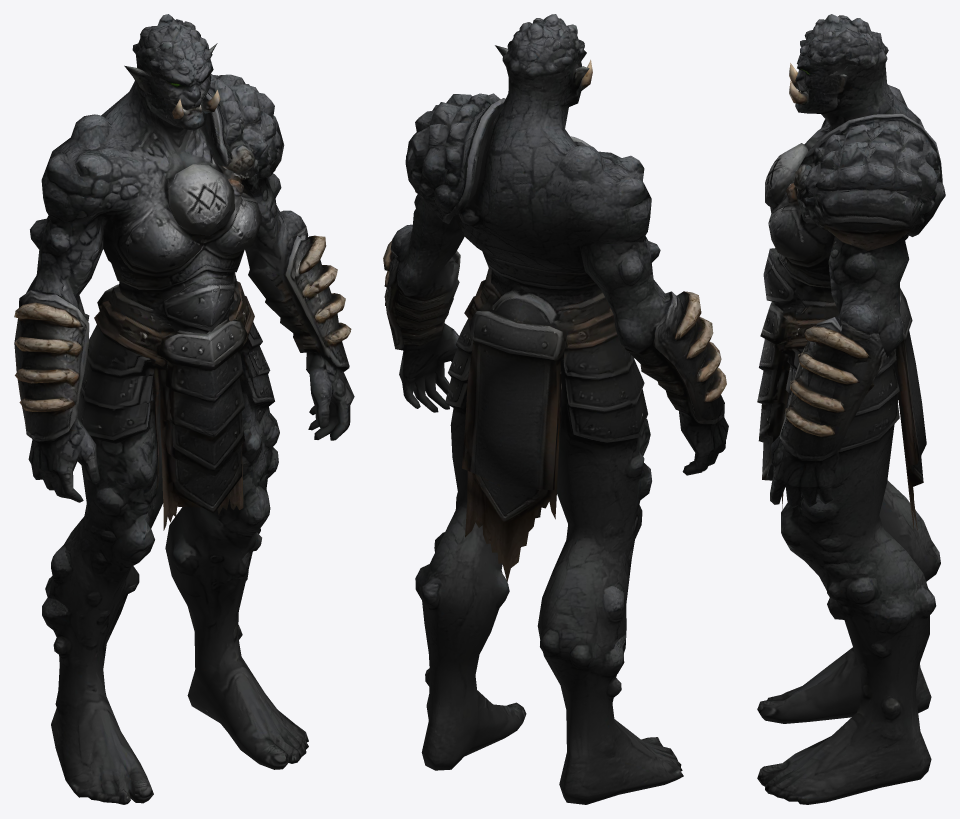
File: 019f413e-dabb-754d-8147-22629c7dc4c3.glb
3 renders of one model, left to right at view 1: azimuth 30°, elevation 25°; view 2: azimuth 150°, elevation 25°; view 3: azimuth 270°, elevation 25°, orthographic.
Parts seen in each view (by area): view 1: tripo_node_b06c6f54-36e4-4106-a2ad-4af4cdb15602; view 2: tripo_node_b06c6f54-36e4-4106-a2ad-4af4cdb15602; view 3: tripo_node_b06c6f54-36e4-4106-a2ad-4af4cdb15602.
Boxes of the visible parts, x1=… form: tripo_node_b06c6f54-36e4-4106-a2ad-4af4cdb15602: x1=14, y1=14, x2=354, y2=804; tripo_node_b06c6f54-36e4-4106-a2ad-4af4cdb15602: x1=383, y1=14, x2=728, y2=804; tripo_node_b06c6f54-36e4-4106-a2ad-4af4cdb15602: x1=757, y1=14, x2=945, y2=804.
Bounding box in the file's own units: 0.459 × 0.998 × 0.2324.
Materials: 1 (1 with a texture image).
